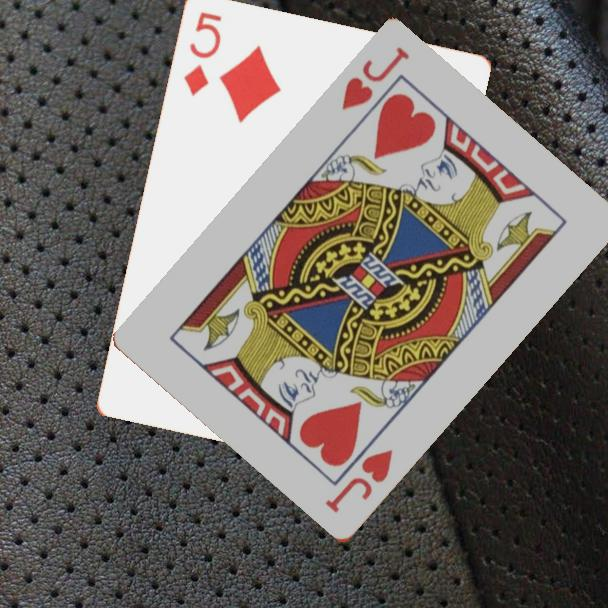d05: (180, 8, 224, 98)
h11: (337, 43, 413, 114), (321, 446, 396, 517)
